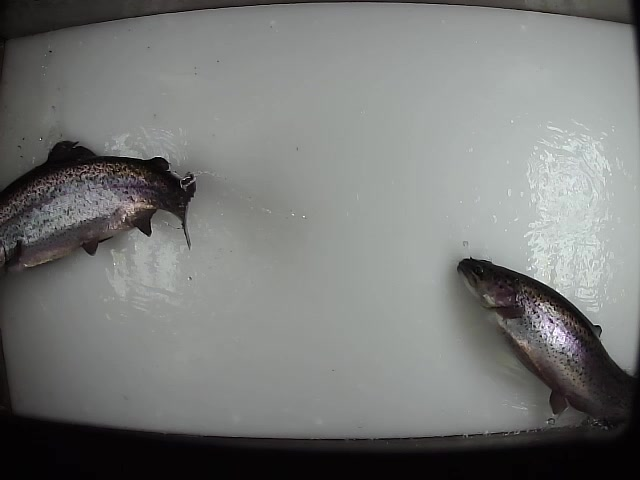fish: (455, 254, 640, 431), (1, 137, 198, 280)
